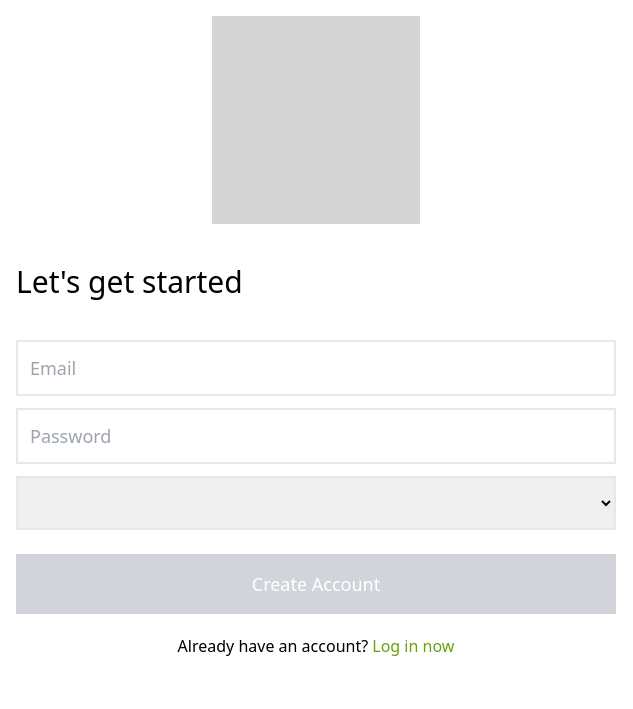
<Login /> › should render validation errors
The image size is (633, 709).
Type "won@won" into the field with placeholder "Email" at (316, 368), box left=16, top=340, right=616, bottom=396
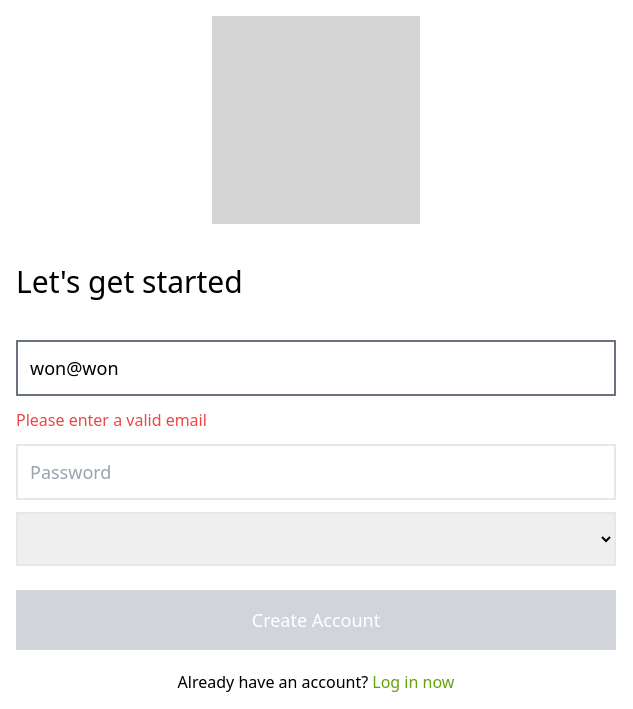
Check: the message reads "Please enter a valid email", box left=16, top=409, right=207, bottom=431
Clear the field with placeholder "Email" at (316, 368), box left=16, top=340, right=616, bottom=396
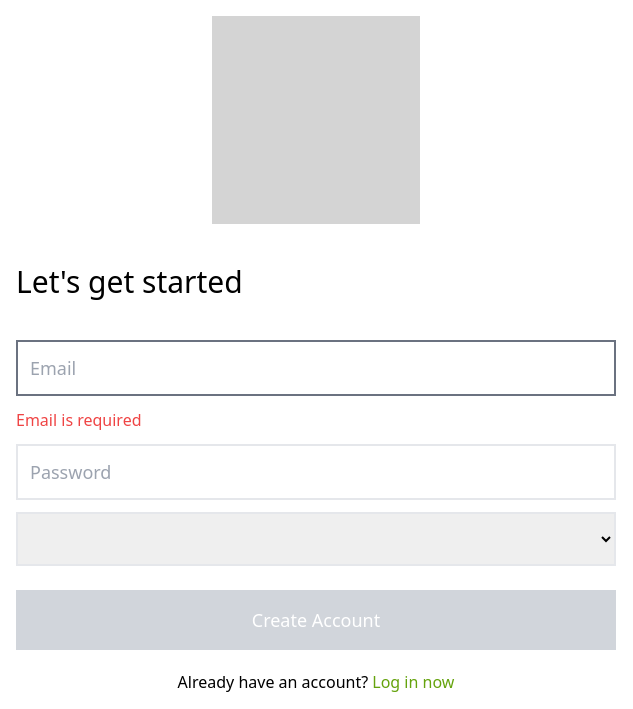
Check: the message reads "Email is required", box left=16, top=409, right=142, bottom=431
Type "test@test.com" into the field with placeholder "Email" at (316, 368), box left=16, top=340, right=616, bottom=396
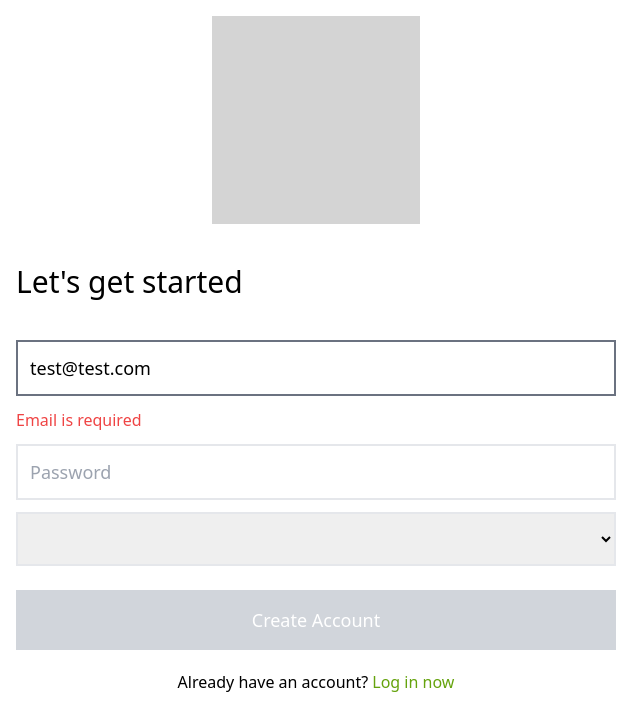
Type "test" into the password field with placeholder "Password" at (316, 472), box left=16, top=444, right=616, bottom=500
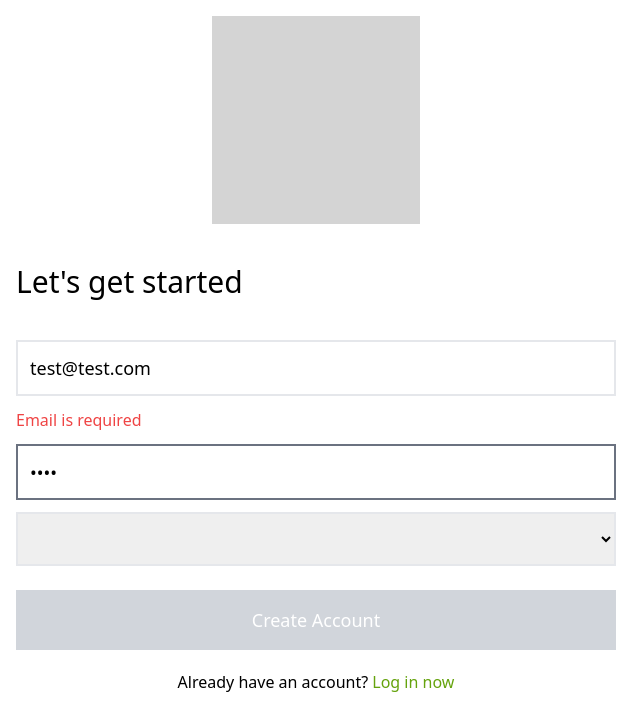
Clear the password field with placeholder "Password" at (316, 472), box left=16, top=444, right=616, bottom=500
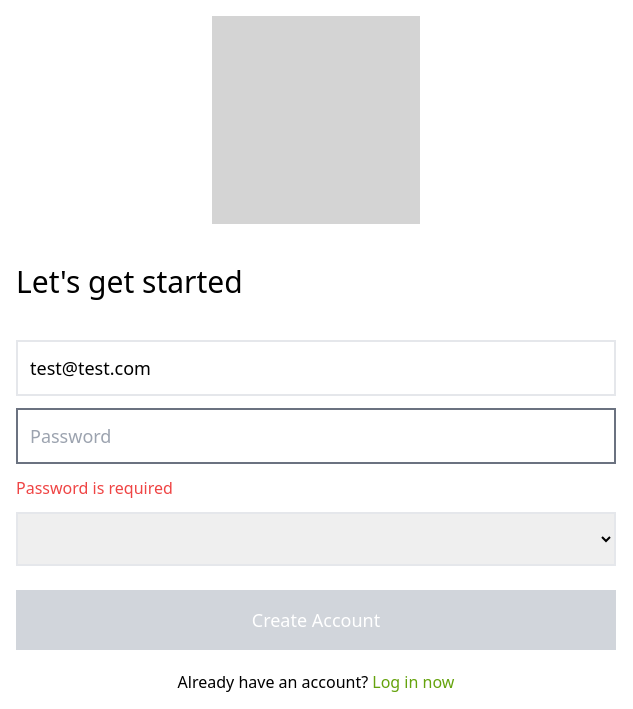
Check: the message reads "Password is required", box left=16, top=477, right=173, bottom=499
